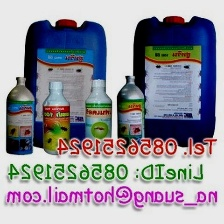insecticide: (19, 15, 112, 153), (126, 12, 219, 150), (4, 75, 37, 157), (115, 73, 147, 153), (41, 79, 73, 157), (82, 79, 114, 154)
